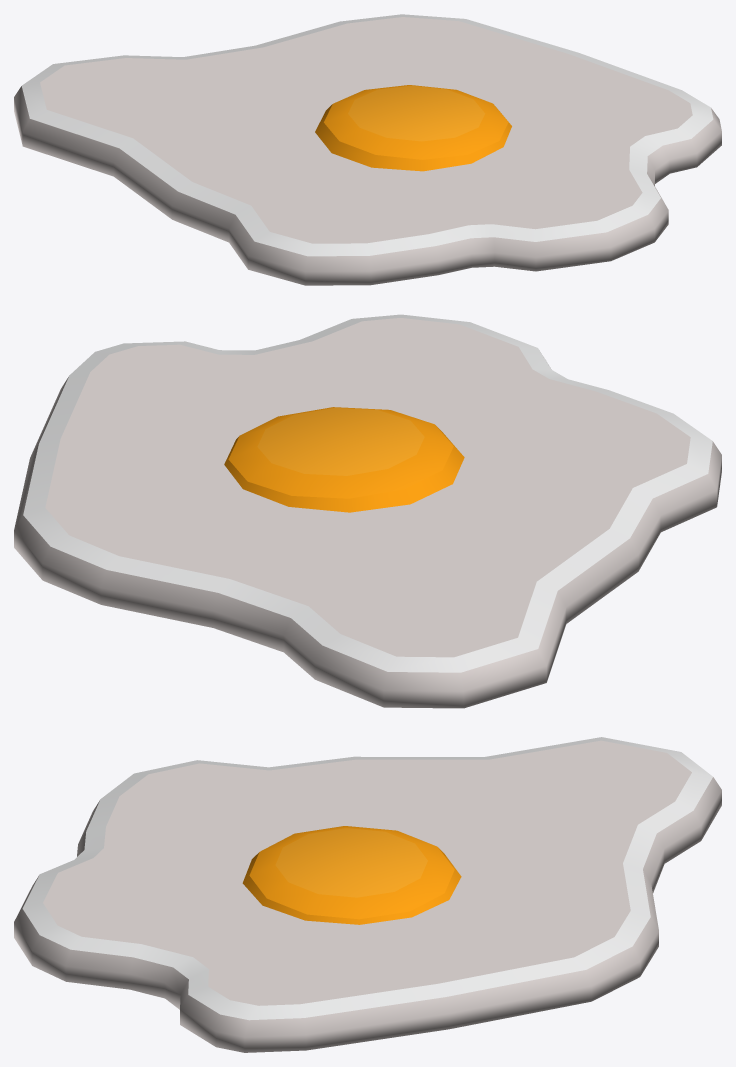
The model's file is Eggs_LV2.glb.
3 views of the same model, one above another, from view 1: azimuth 30°, elevation 25°; view 2: azimuth 150°, elevation 25°; view 3: azimuth 270°, elevation 25° (orthographic). The views are drawn at different scales.
Visible parts, largest first — view 1: Eggs_LV2; view 2: Eggs_LV2; view 3: Eggs_LV2.
Part boxes in pixels (box(x1,y1,x2,y2)): Eggs_LV2: box(14, 14, 721, 285); Eggs_LV2: box(14, 314, 721, 708); Eggs_LV2: box(14, 737, 721, 1052).
Bounding box in the file's own units: 0.2295 × 0.02 × 0.2363.
1 material, 1 textured.
